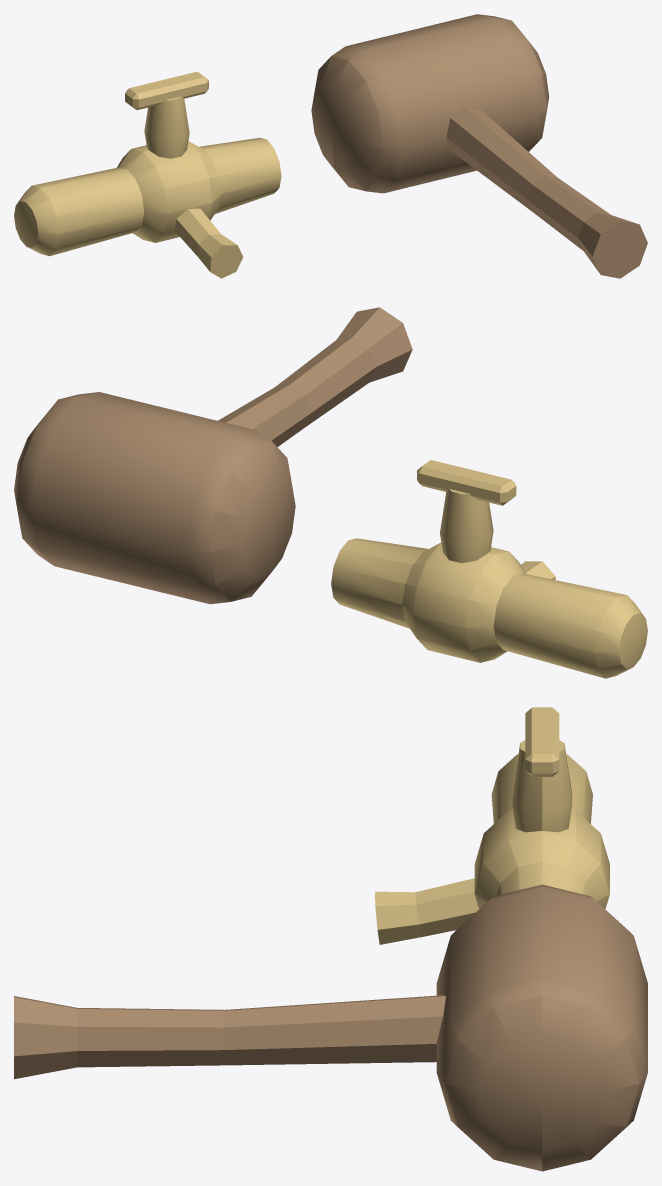
The model's file is bar-pub-and-brewery-taproom-cellar-tap-and-mallet-8cb62dad__18361.glb.
3 renders of one model, top to bottom at view 1: azimuth 30°, elevation 25°; view 2: azimuth 150°, elevation 25°; view 3: azimuth 270°, elevation 25°, orthographic. The views are drawn at different scales.
Visible parts, largest first — view 1: cellar-tap-and-mallet; view 2: cellar-tap-and-mallet; view 3: cellar-tap-and-mallet.
Part boxes in pixels (x1,y1,x2,y2): cellar-tap-and-mallet: (14, 14, 647, 278); cellar-tap-and-mallet: (14, 307, 647, 678); cellar-tap-and-mallet: (14, 707, 647, 1171).
Bounding box in the file's own units: 0.385 × 0.112 × 0.3.
